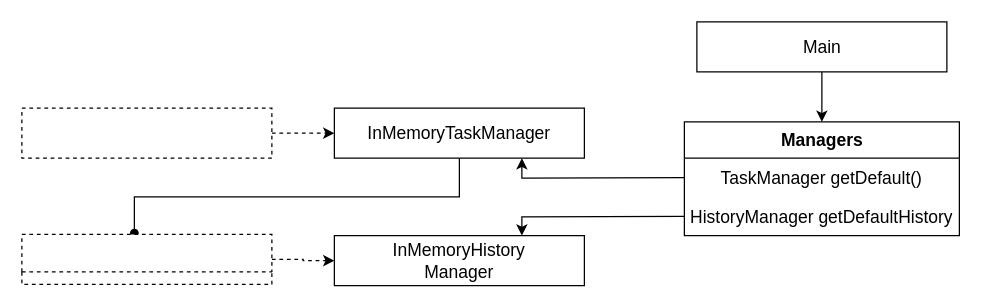
The diagram is 985 pixels wide and 308 high, and some of its shapes have lost their labels. Here are the shapes that lost their labels. From the top down, the box of each, then its label:
(21, 107, 272, 158): TaskManager
(21, 233, 272, 284): HistoryManager
